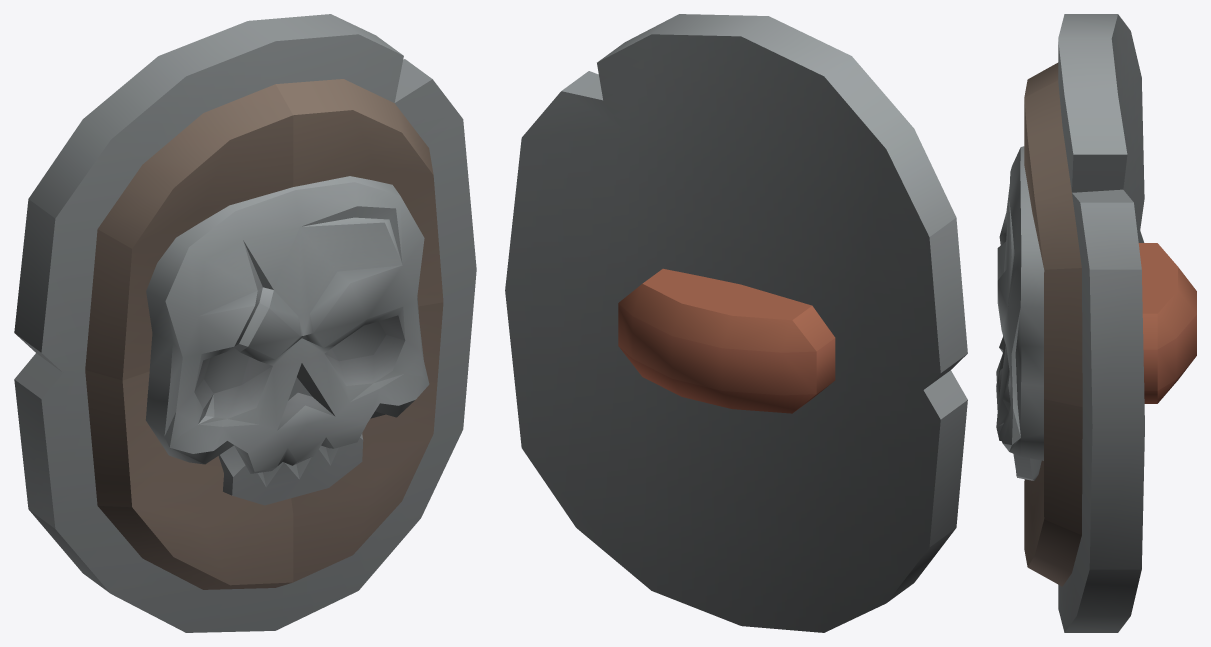
File: Skeleton_Shield_Large_A.glb
The picture shows the model from 3 angles, left to right: view 1: azimuth 30°, elevation 25°; view 2: azimuth 150°, elevation 25°; view 3: azimuth 270°, elevation 25°; orthographic projection. The views are drawn at different scales.
Size of the model in its own units: 0.8771 by 1.13 by 0.3625.
Materials: 1 (1 with a texture image).
